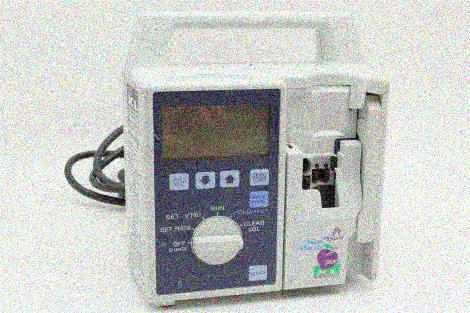plumxl1: (125, 12, 390, 306)
